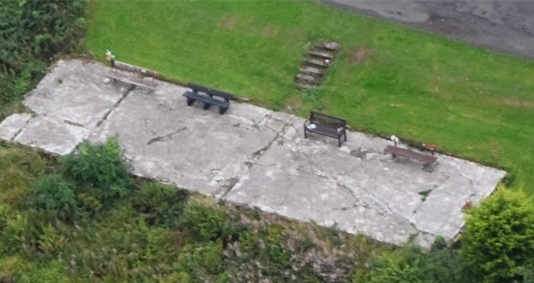white_in_green: (378, 121, 414, 156), (414, 129, 450, 164), (295, 109, 331, 144)
